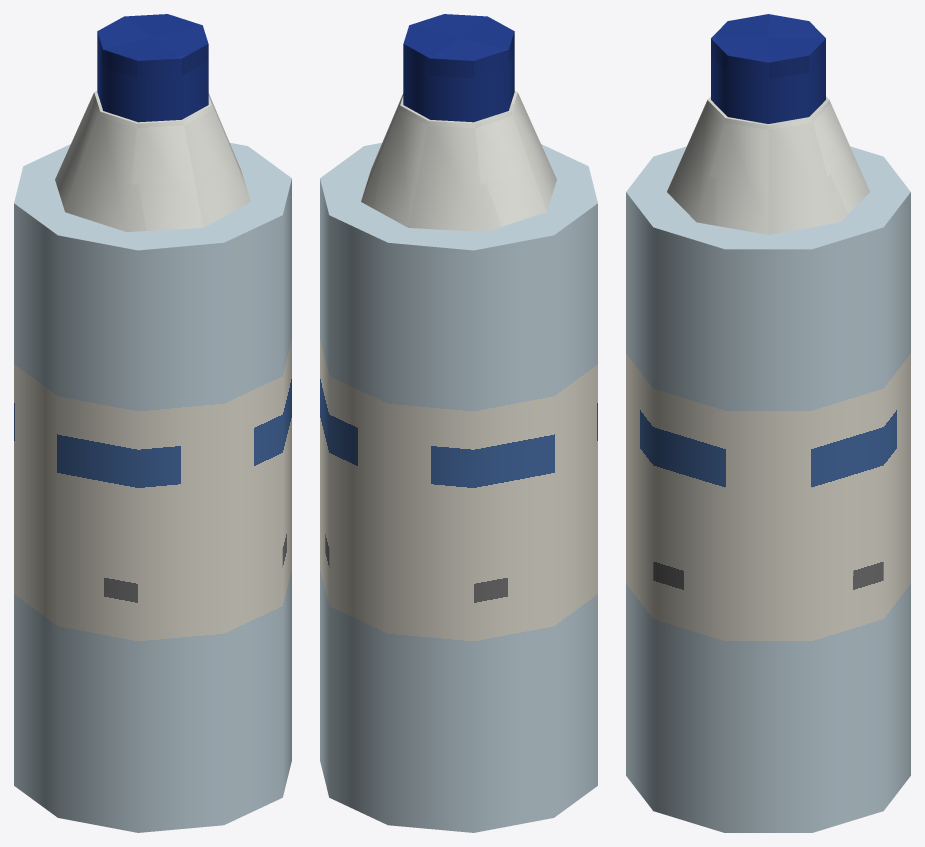
File: tfg_almond_water.glb
3 renders of one model, left to right at view 1: azimuth 30°, elevation 25°; view 2: azimuth 150°, elevation 25°; view 3: azimuth 270°, elevation 25°, orthographic.
Parts seen in each view (by area): view 1: tfg_almond_water; view 2: tfg_almond_water; view 3: tfg_almond_water.
Boxes of the visible parts, box(x1,y1,x2,y2) form: tfg_almond_water: box(14, 14, 291, 832); tfg_almond_water: box(320, 14, 597, 832); tfg_almond_water: box(626, 14, 910, 832).
Size of the model in its own units: 0.0799 by 0.24 by 0.084.
3 materials, 3 textured.
